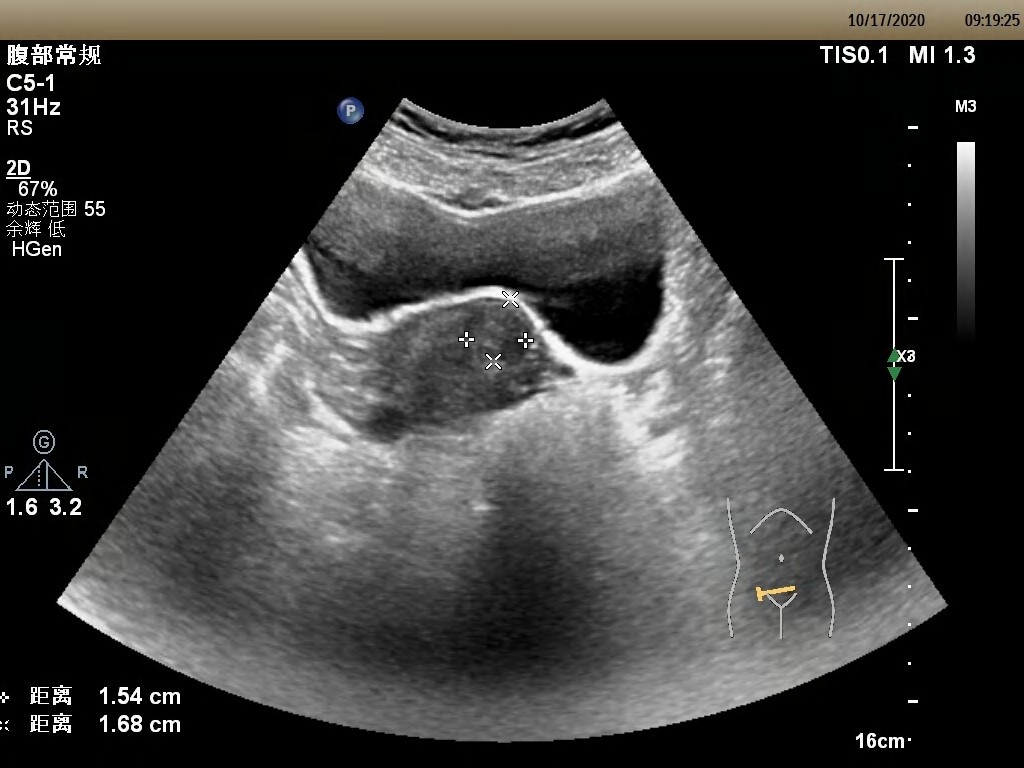肌瘤: (464, 301, 531, 363)
